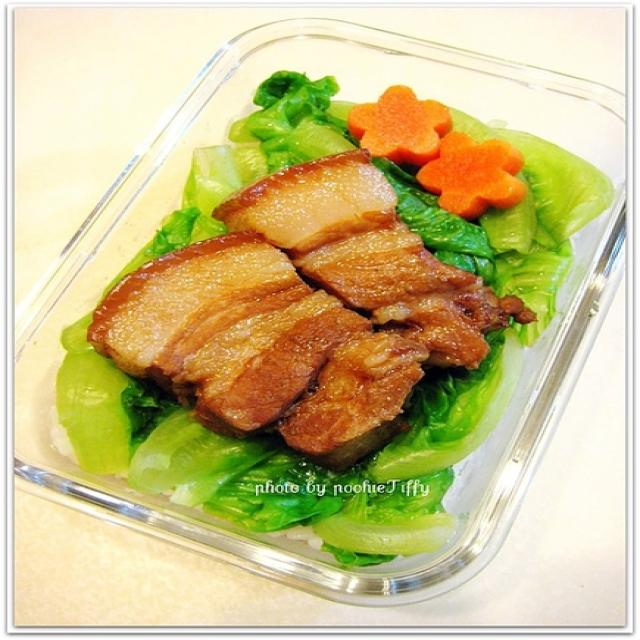牛肉菜式: (48, 29, 632, 573)
